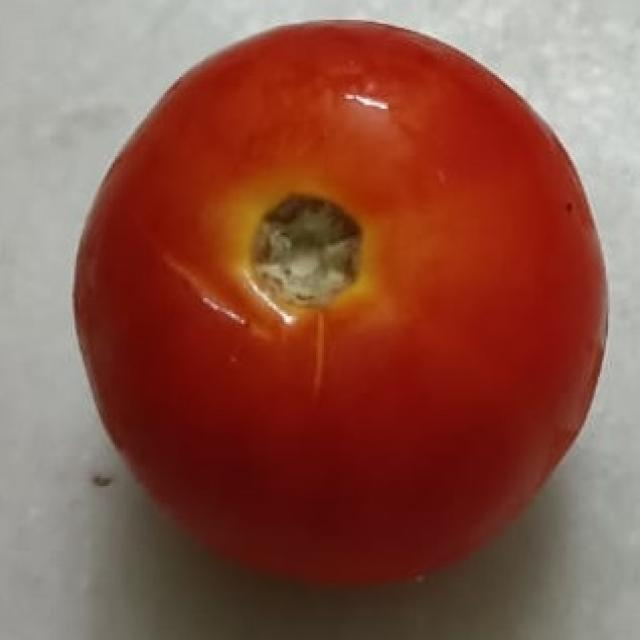ripe tomato: (60, 11, 626, 591)
